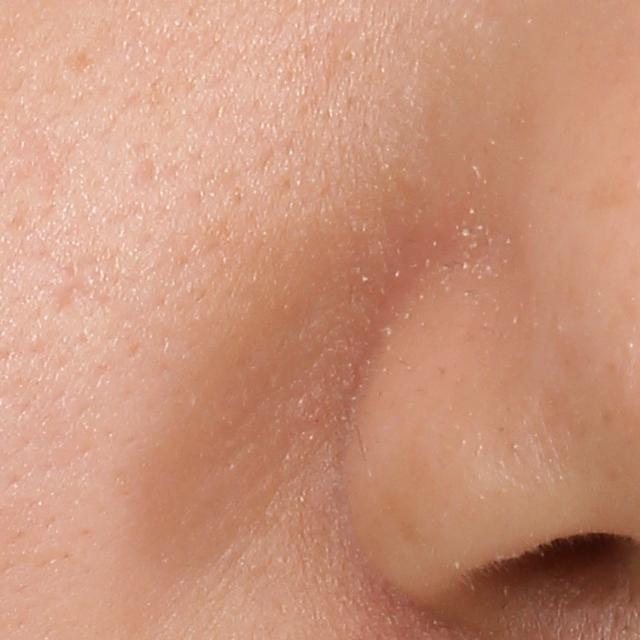atrophic_scar: (50, 254, 101, 313), (127, 141, 163, 194)
comedo: (336, 42, 361, 65)
